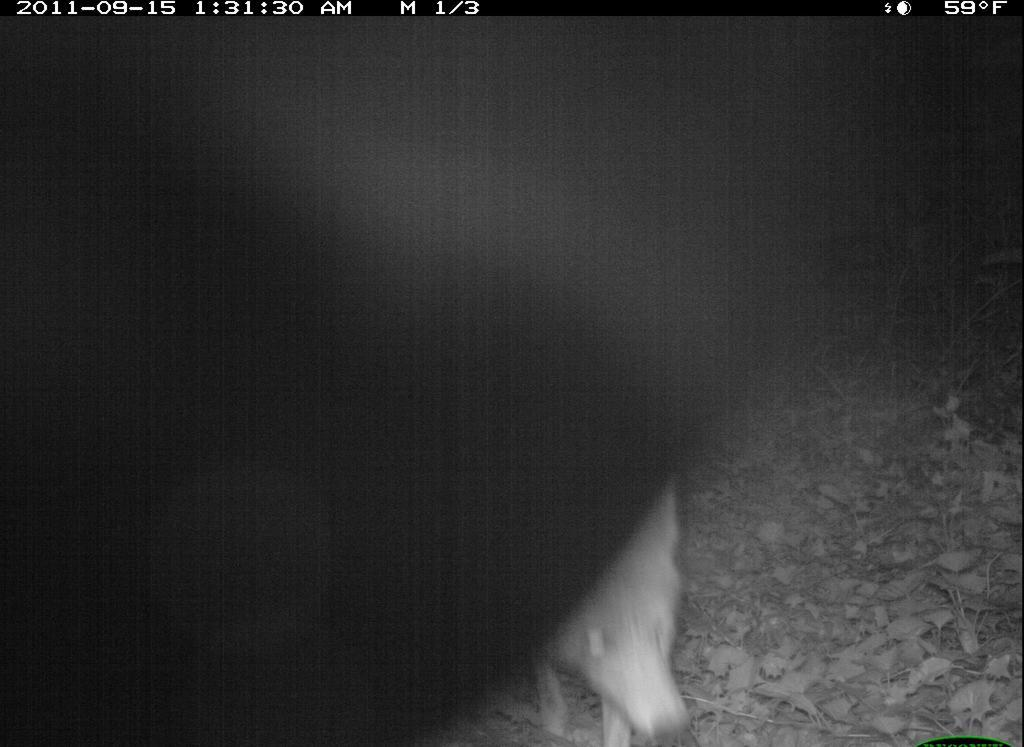coyote: (525, 466, 703, 747)
